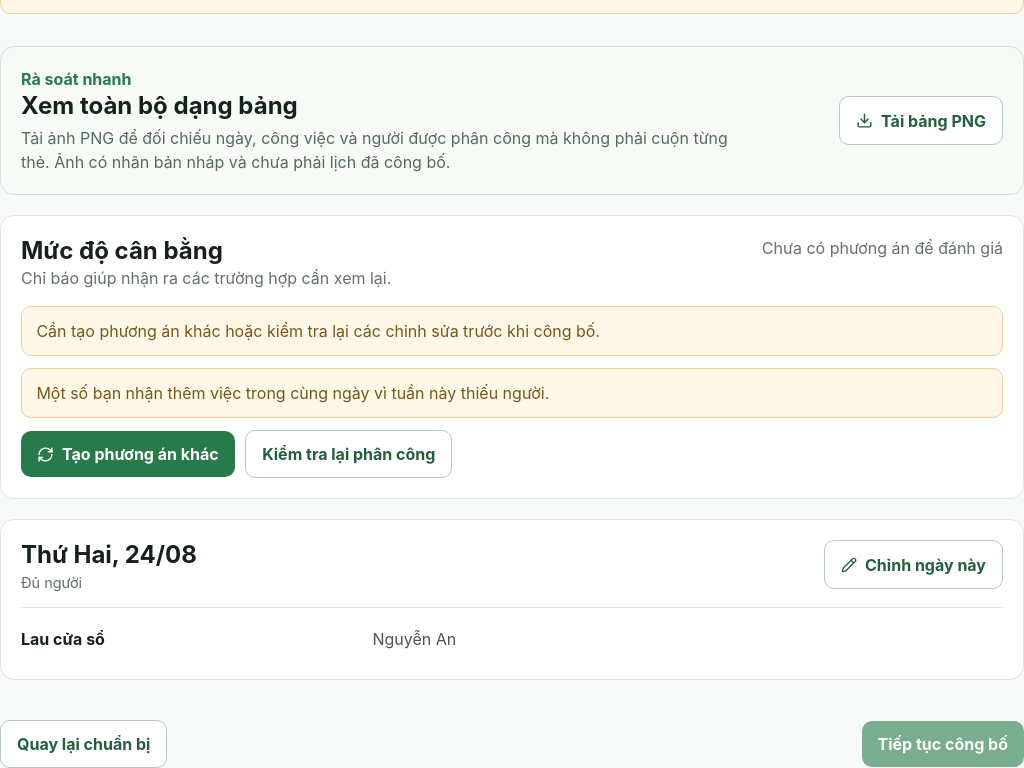
Test: WeekEditorPage › asks for confirmation before deleting a one-off task
(page scrolled)
Click the button "Chỉnh ngày này" at (914, 565), box [824,540,1003,589]
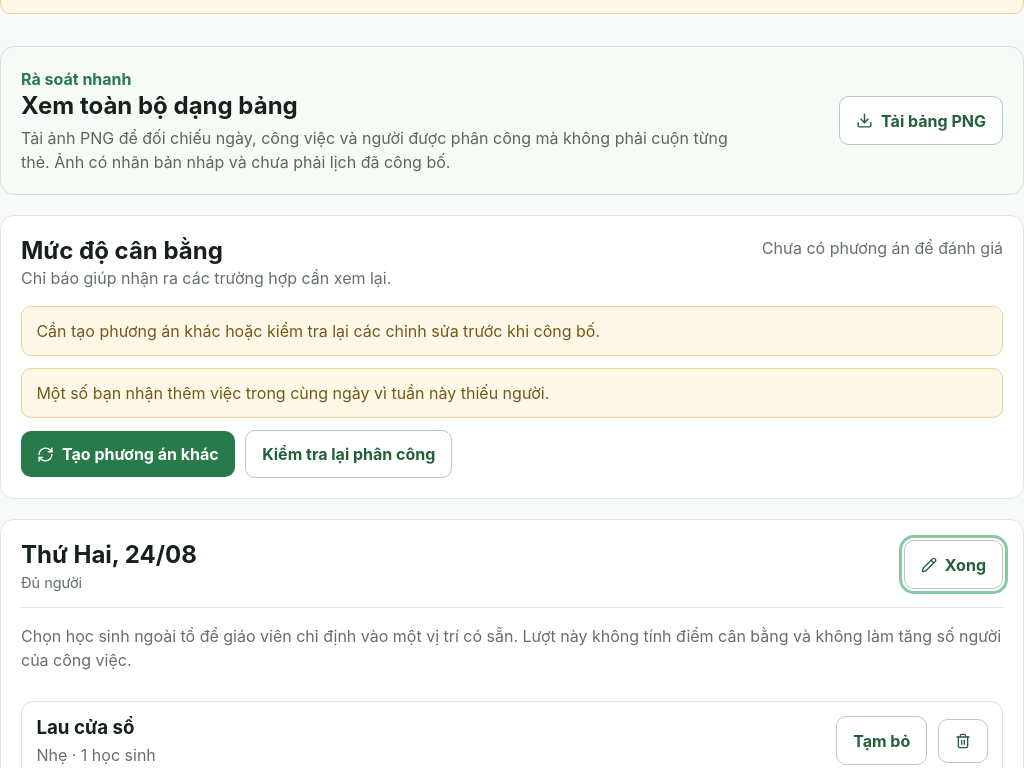
Click the button named "Xóa Lau cửa sổ" at (963, 740), box [938,718,988,762]
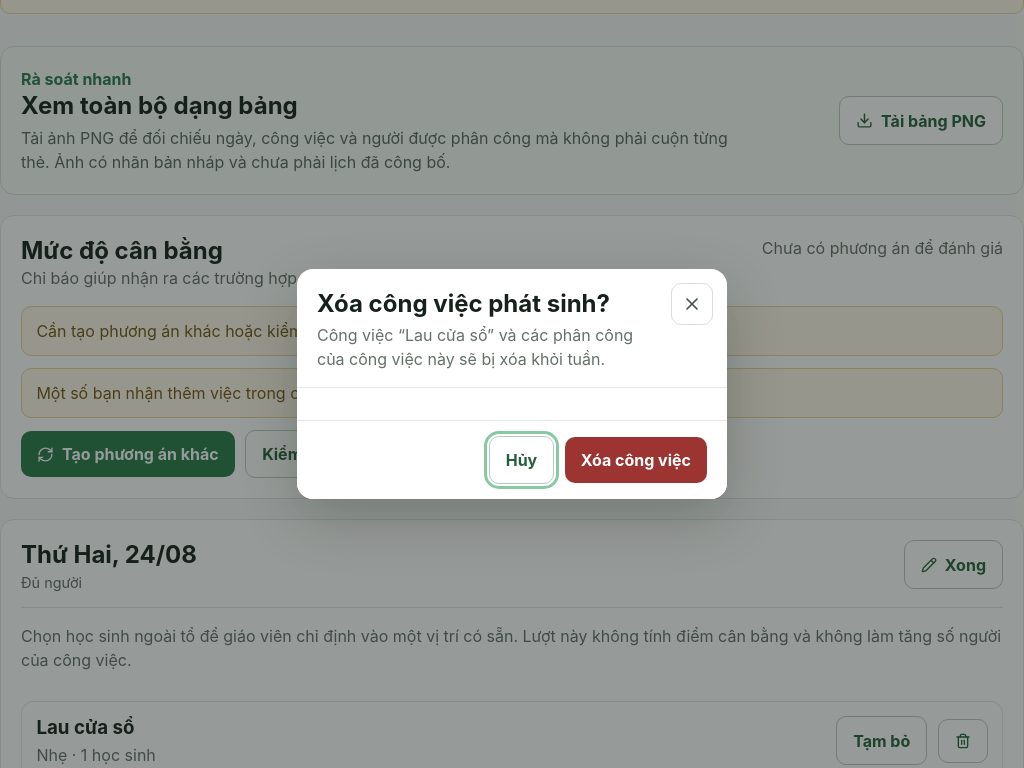
Result: the heading "Xóa công việc phát sinh?" is shown at [317,289,655,319]
Result: the text "các phân công của công việc này sẽ bị xóa" is shown at [317,325,633,369]
